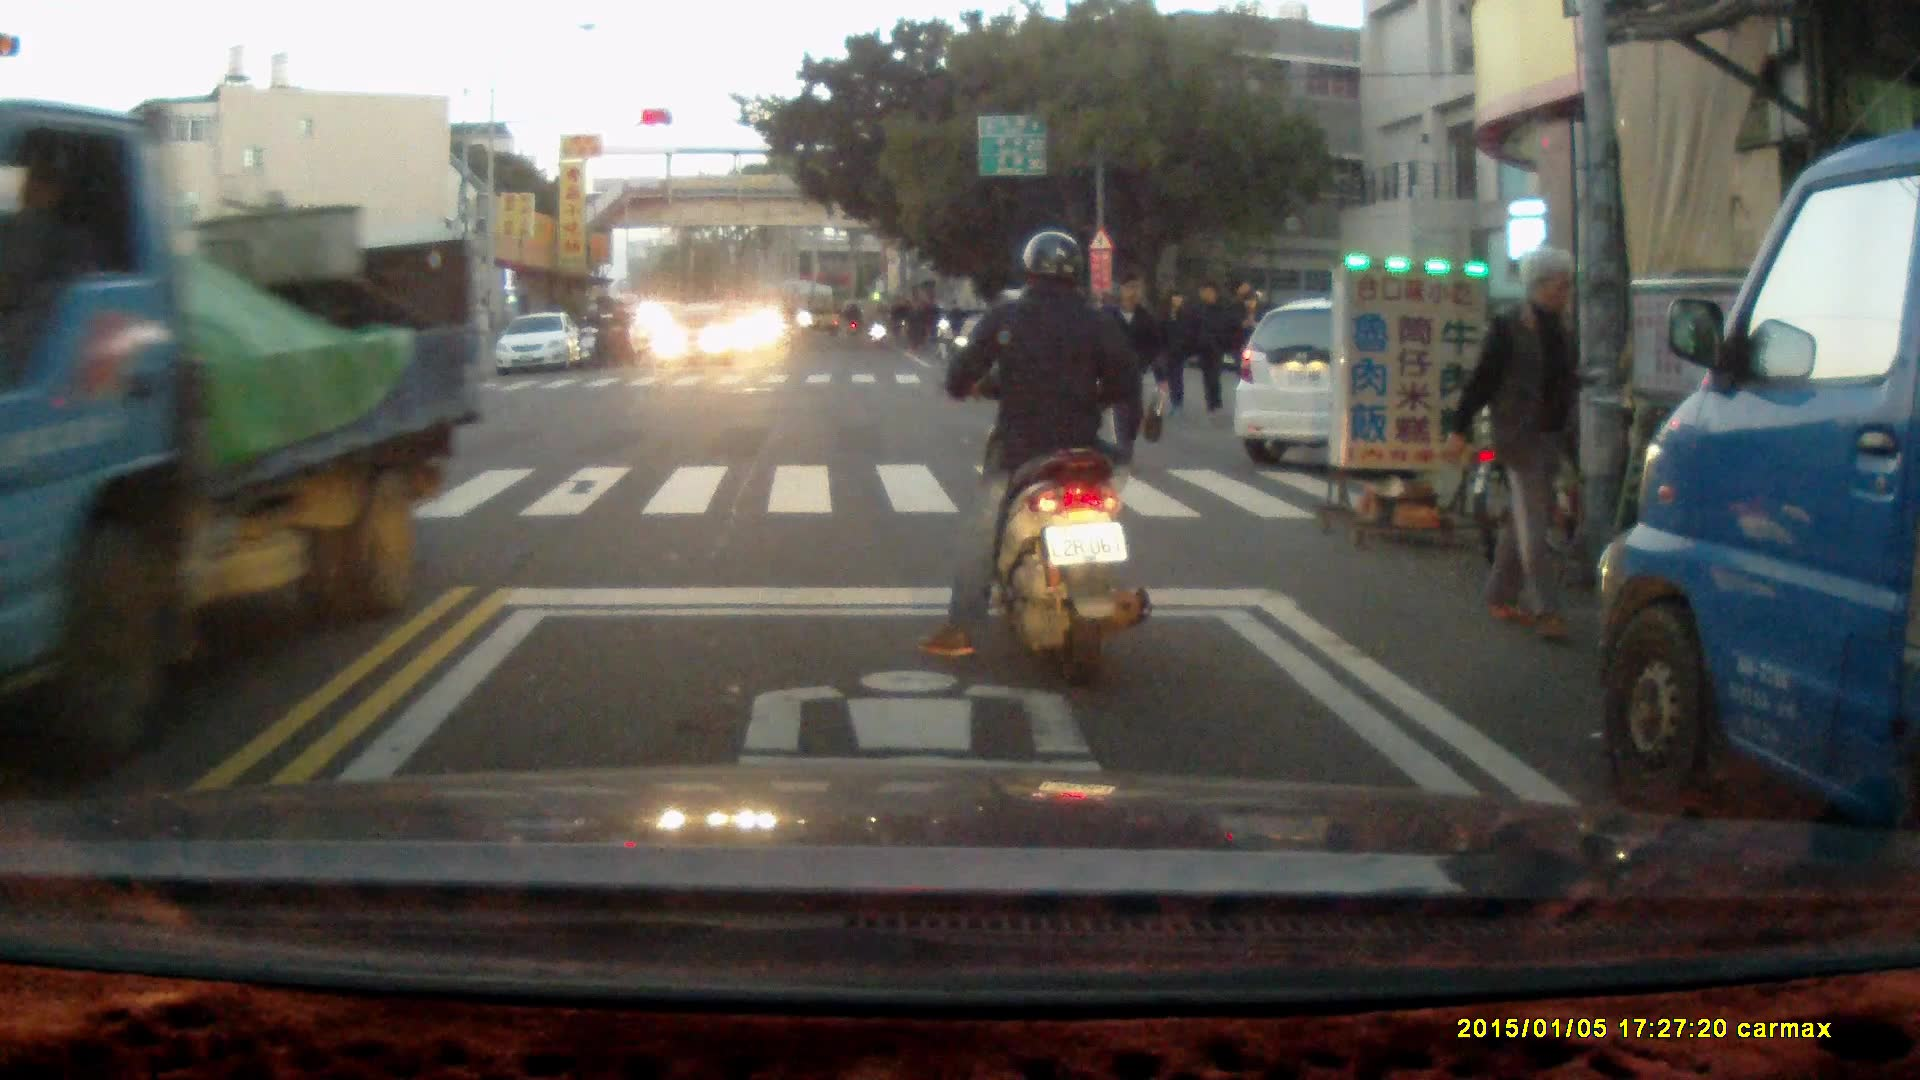pedestrian: (1452, 241, 1591, 638), (1089, 264, 1169, 472), (1187, 282, 1227, 427), (1155, 283, 1194, 424)
rider: (917, 229, 1150, 692), (577, 301, 612, 372), (601, 296, 636, 366), (862, 297, 890, 350)
vehicle: (1, 93, 486, 791), (1596, 120, 1920, 901), (1233, 303, 1533, 462), (493, 311, 584, 378), (657, 299, 742, 367)
